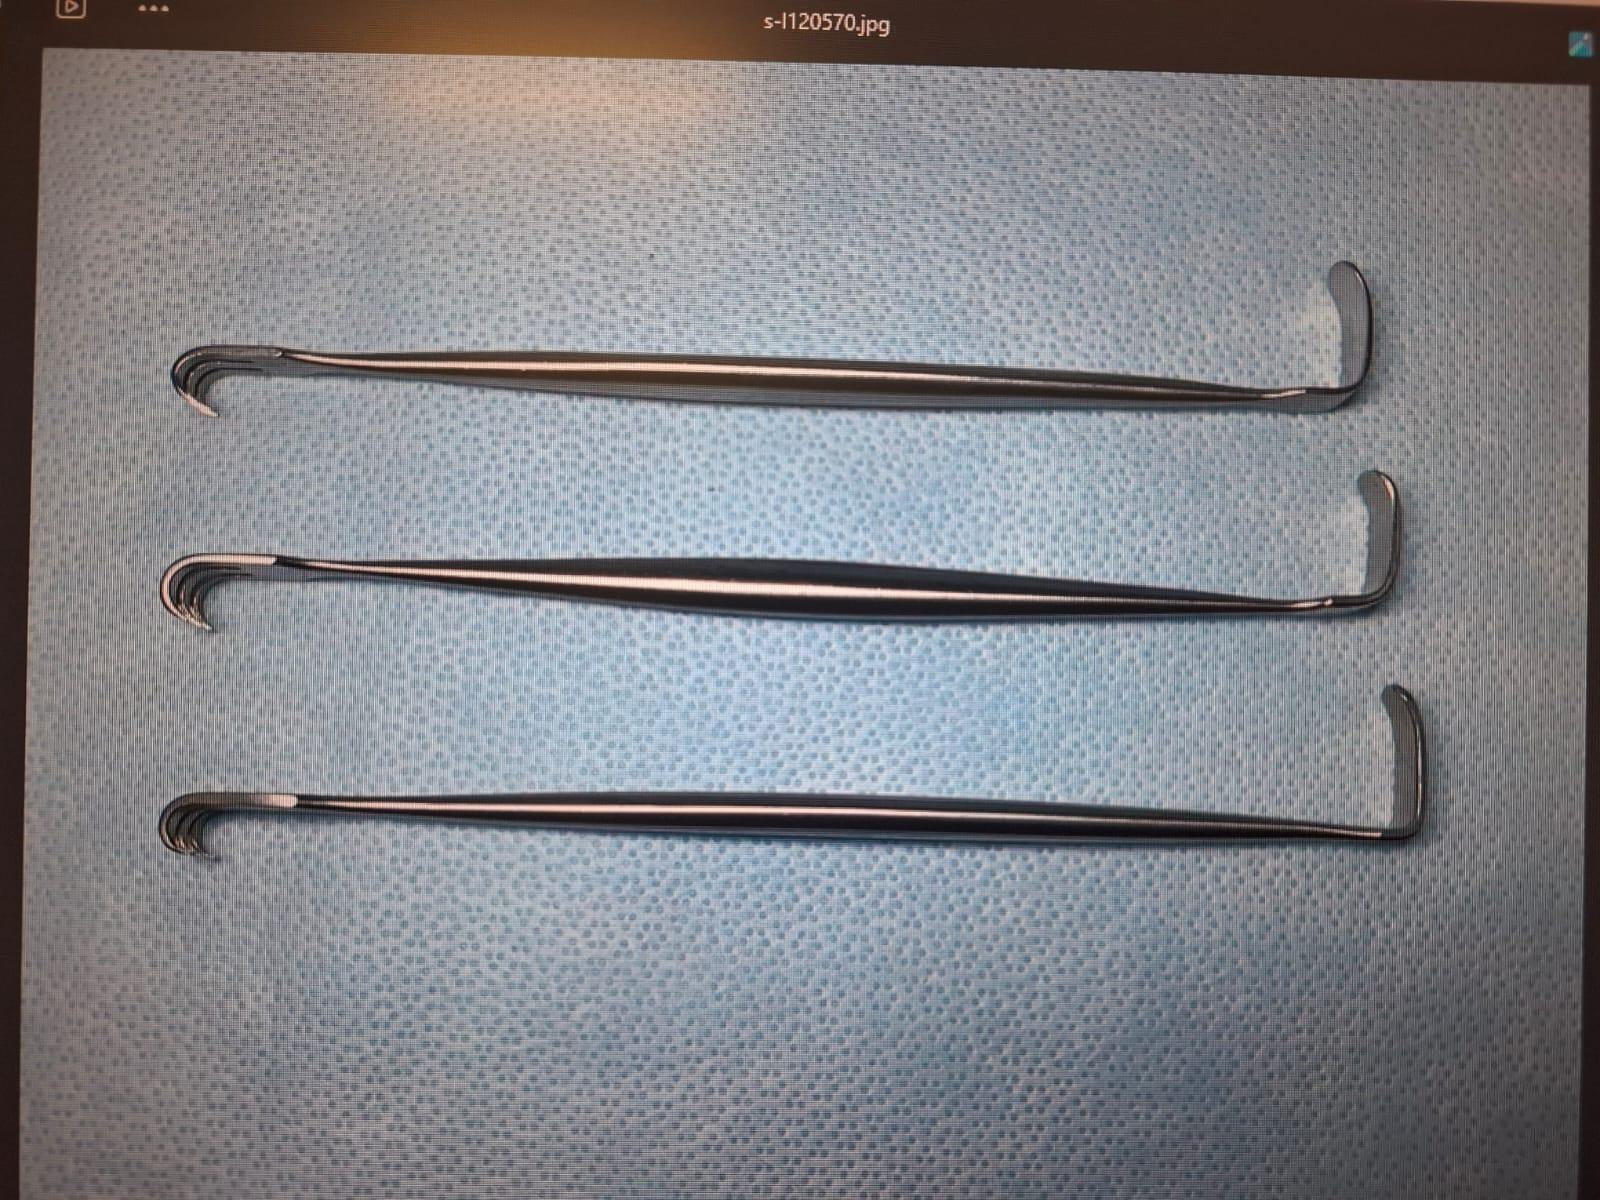Senn Retractor: (146, 447, 1420, 658), (144, 684, 1424, 886), (147, 236, 1393, 437)
